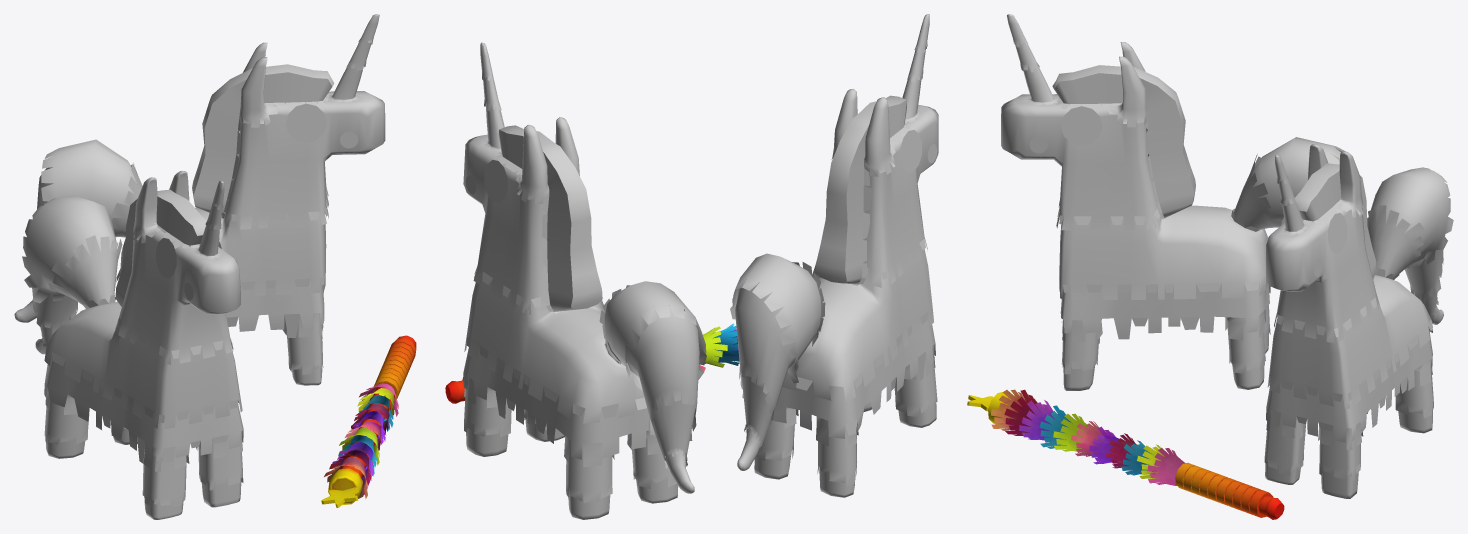
Rendered from Pinata_Pack.fbx.
The picture shows the model from 3 angles, left to right: view 1: azimuth 30°, elevation 25°; view 2: azimuth 150°, elevation 25°; view 3: azimuth 270°, elevation 25°; orthographic projection. The views are drawn at different scales.
Parts seen in each view (by area): view 1: Pinata, Pinata2, PinataStick; view 2: Pinata2, Pinata, PinataStick; view 3: Pinata, Pinata2, PinataStick.
Part boxes in pixels (x1,y1,x2,y2): Pinata: (22, 170, 243, 519); Pinata2: (14, 14, 385, 385); PinataStick: (321, 335, 416, 507); Pinata2: (463, 42, 706, 519); Pinata: (730, 14, 938, 497); PinataStick: (445, 323, 739, 403); Pinata: (1001, 14, 1344, 390); Pinata2: (1264, 144, 1453, 498); PinataStick: (967, 389, 1284, 519).
Size of the model in its own units: 304 by 273 by 336.
